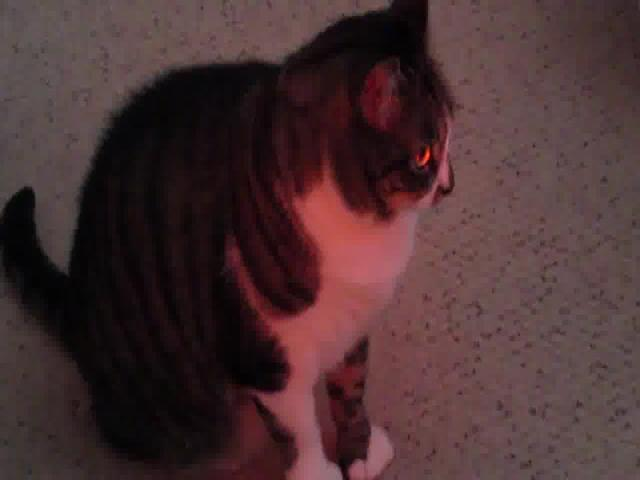playdoh: (1, 1, 458, 480)
